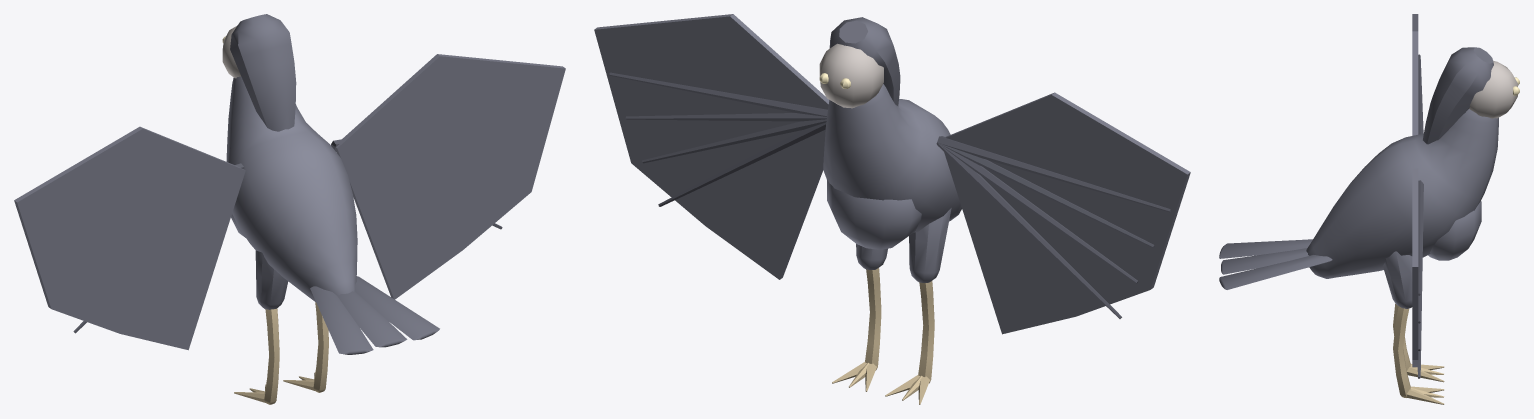
The model's file is storm_harpy.gltf.
The picture shows the model from 3 angles, left to right: view 1: azimuth 30°, elevation 25°; view 2: azimuth 150°, elevation 25°; view 3: azimuth 270°, elevation 25°; orthographic projection. The views are drawn at different scales.
Visible parts, largest first — view 1: FlapR, FlapL, Body, SwingA, SwingB; view 2: FlapL, FlapR, Body, SwingA, SwingB; view 3: Body, SwingB, FlapR, FlapL, SwingA.
Part boxes in pixels (x1,y1,x2,y2): FlapR: (331,54,565,299); FlapL: (14,126,245,350); Body: (222,14,439,354); SwingA: (234,250,288,404); SwingB: (283,302,328,392); FlapL: (936,92,1190,334); FlapR: (594,14,829,279); Body: (819,17,961,249); SwingA: (885,208,951,404); SwingB: (832,244,887,391); Body: (1219,47,1519,289); SwingB: (1383,251,1444,404); FlapR: (1412,168,1423,378); FlapL: (1412,14,1423,135); SwingA: (1393,304,1444,382).
Size of the model in its own units: 3.12 by 1.94 by 1.57.
